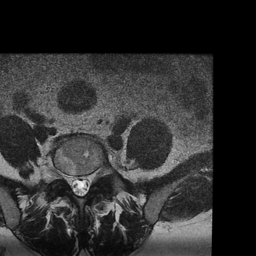CCS_normal: (76, 167, 83, 201)
LFS_normal: (91, 162, 99, 188)
LLS_normal: (83, 165, 90, 198)
RFS_normal: (60, 162, 68, 187)
RLS_normal: (68, 168, 76, 197)
